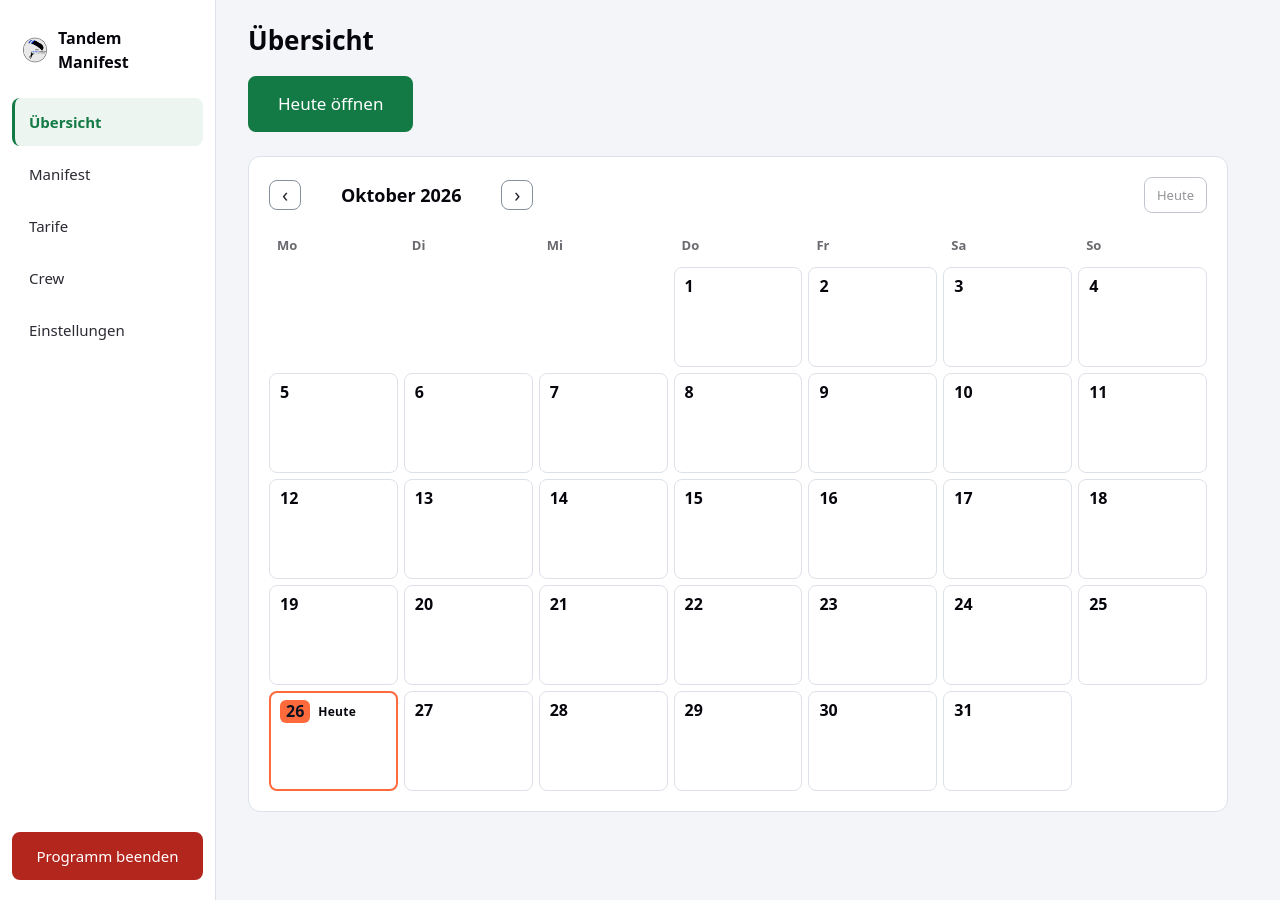
it: unsaved detail › leaves when the answer is yes
Click the button "Manifest" at (108, 174), box [12,150,203,198]
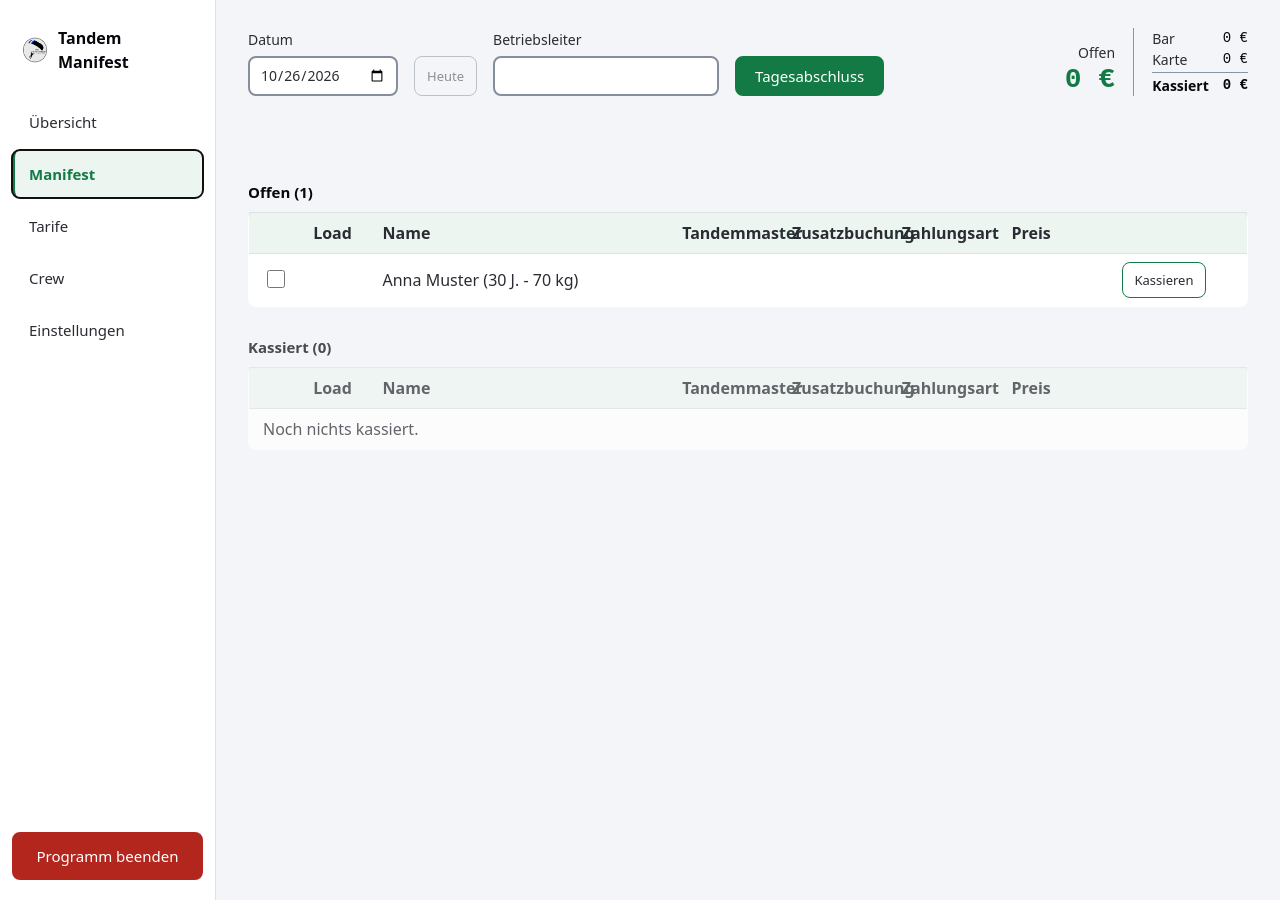
Click the text "Anna Muster" at (402, 280), box [382,269,479,291]
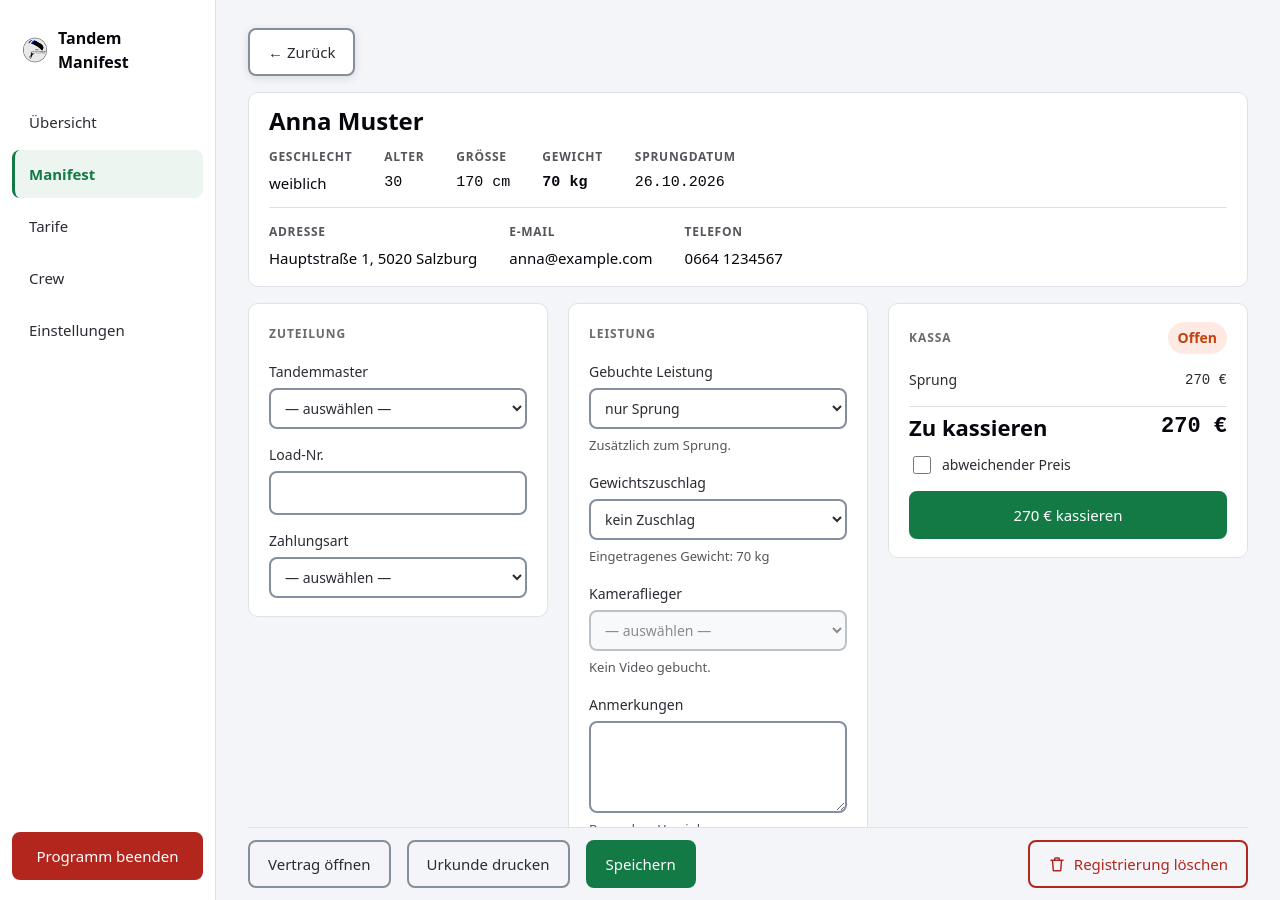
Type "3" into the number field labelled "Load-Nr." at (398, 493), box [269,471,527,515]
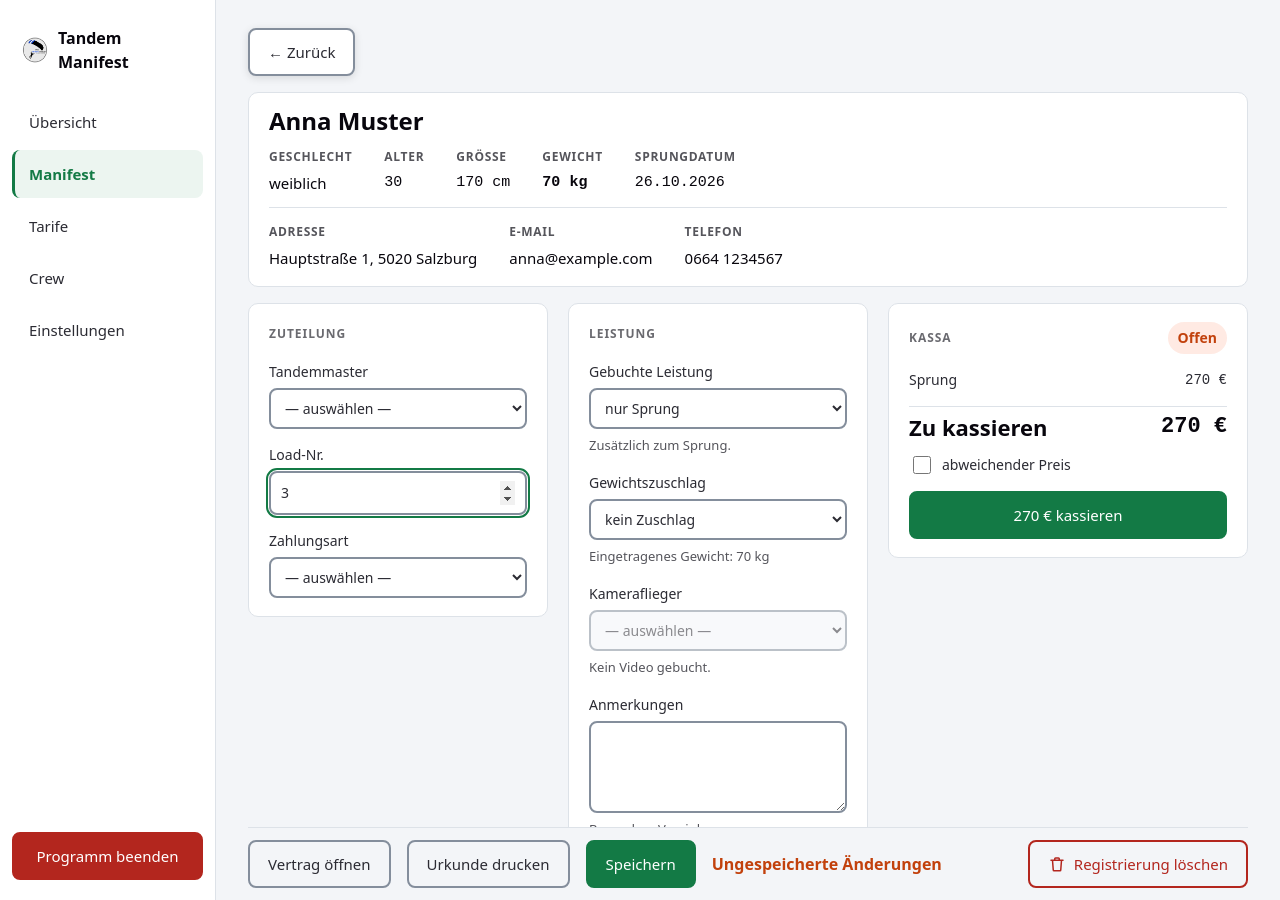
Click the button "← Zurück" at (302, 52), box [248,28,355,76]
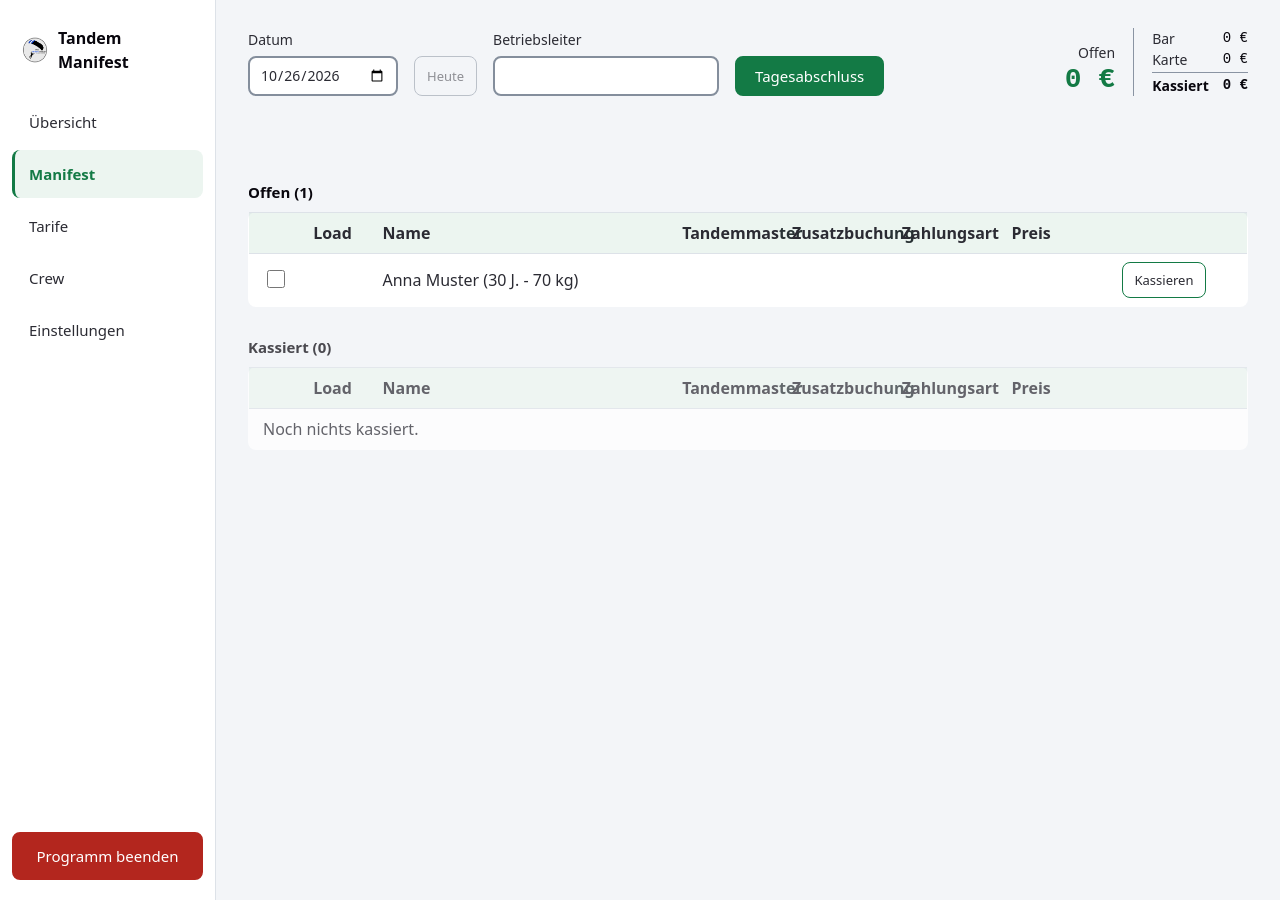
Check: the label labelled "Load-Nr." is gone
